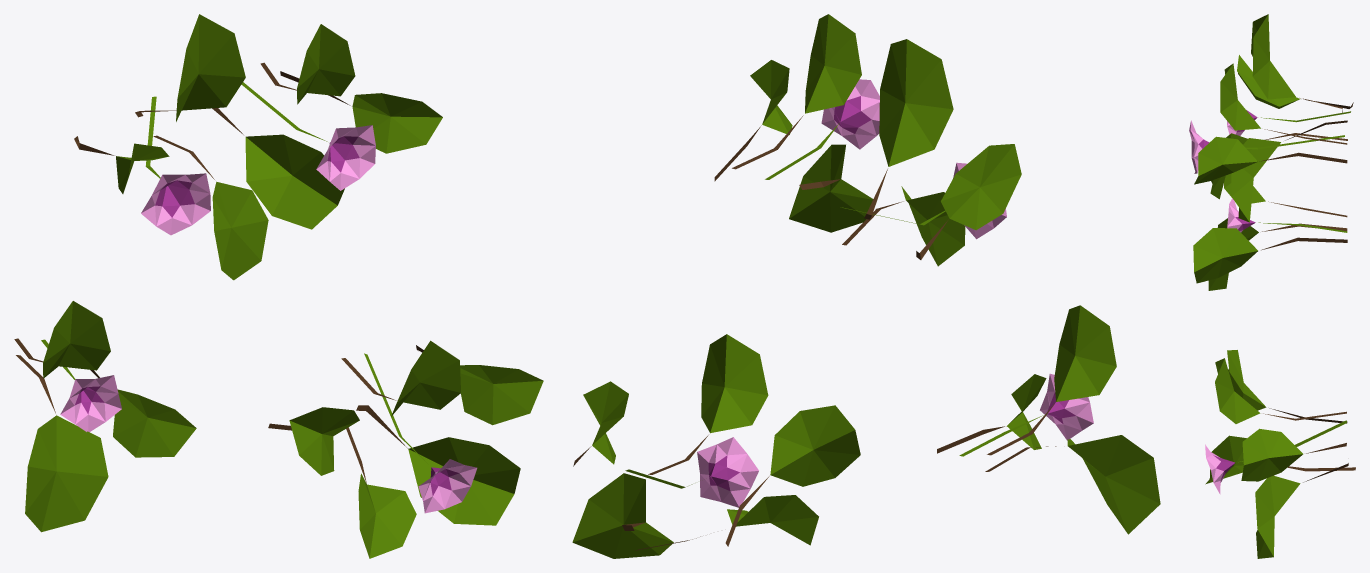
Rendered from BeachPlant2.glb.
3 views of the same model, side by side, from view 1: azimuth 30°, elevation 25°; view 2: azimuth 150°, elevation 25°; view 3: azimuth 270°, elevation 25° (orthographic). The views are drawn at different scales.
Visible parts, largest first — view 1: BeachPlant2; view 2: BeachPlant2; view 3: BeachPlant2.
Boxes of the visible parts, <box> form: BeachPlant2: <box>14,14,543,558</box>; BeachPlant2: <box>572,14,1160,558</box>; BeachPlant2: <box>1189,14,1355,558</box>.
Size of the model in its own units: 1.03 by 1.06 by 0.3648.
Materials: 1 (1 with a texture image).
